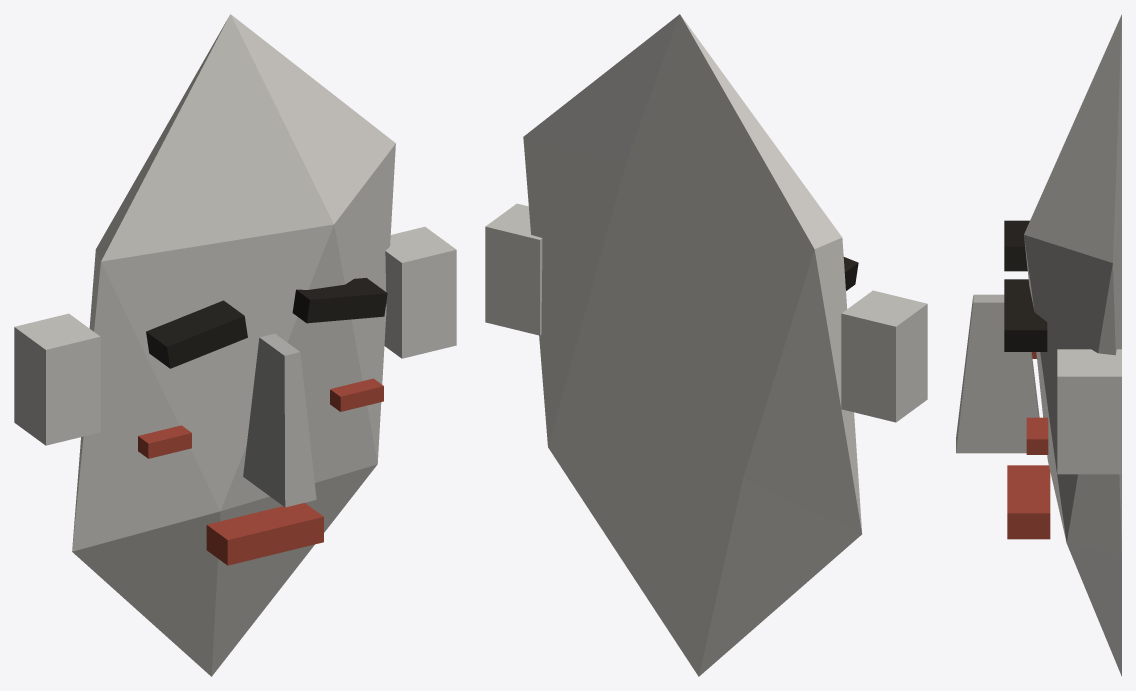
The model's file is wall-mask-31.glb.
3 renders of one model, left to right at view 1: azimuth 30°, elevation 25°; view 2: azimuth 150°, elevation 25°; view 3: azimuth 270°, elevation 25°, orthographic. The views are drawn at different scales.
Visible parts, largest first — view 1: wall_mask_31; view 2: wall_mask_31; view 3: wall_mask_31.
Boxes of the visible parts, x1,y1,x2,y2 form: wall_mask_31: [14, 14, 456, 676]; wall_mask_31: [485, 14, 927, 676]; wall_mask_31: [956, 14, 1121, 676].
Size of the model in its own units: 0.2253 by 0.3451 by 0.0771.
